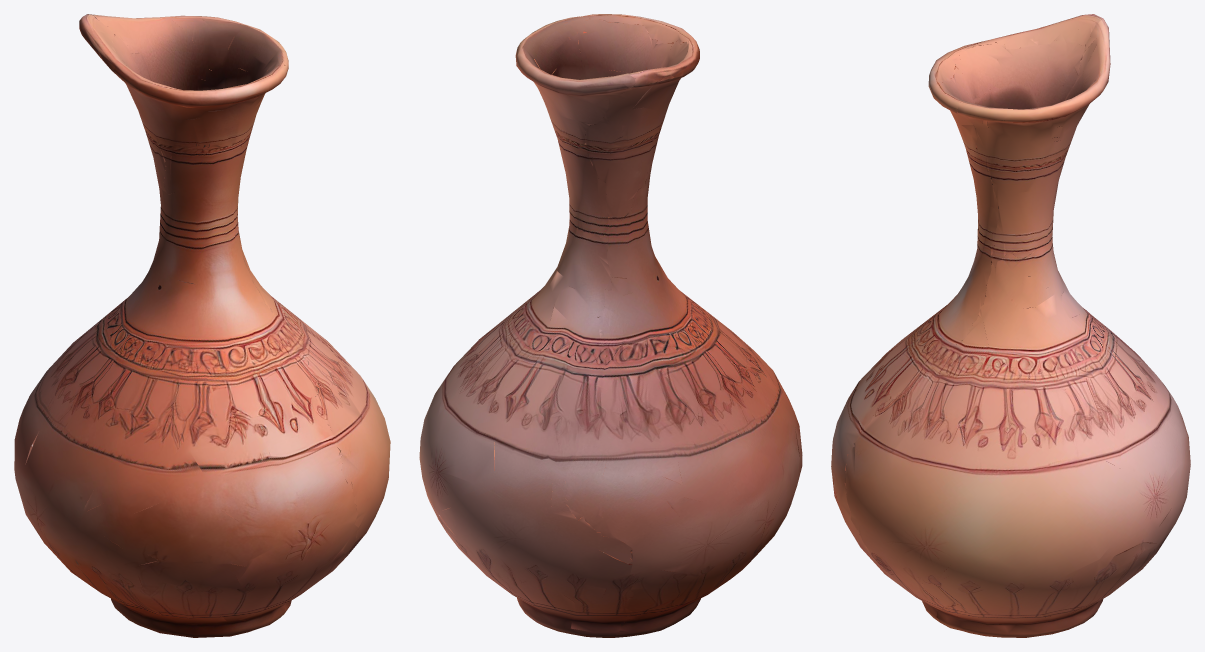
The model's file is surahi.glb.
3 views of the same model, side by side, from view 1: azimuth 30°, elevation 25°; view 2: azimuth 150°, elevation 25°; view 3: azimuth 270°, elevation 25° (orthographic). The views are drawn at different scales.
Visible parts, largest first — view 1: model; view 2: model; view 3: model.
Boxes of the visible parts, <box> form: model: <box>14,14,390,637</box>; model: <box>419,14,802,637</box>; model: <box>831,14,1190,637</box>.
Bounding box in the file's own units: 0.3574 × 0.6 × 0.3531.
Materials: 1 (1 with a texture image).
